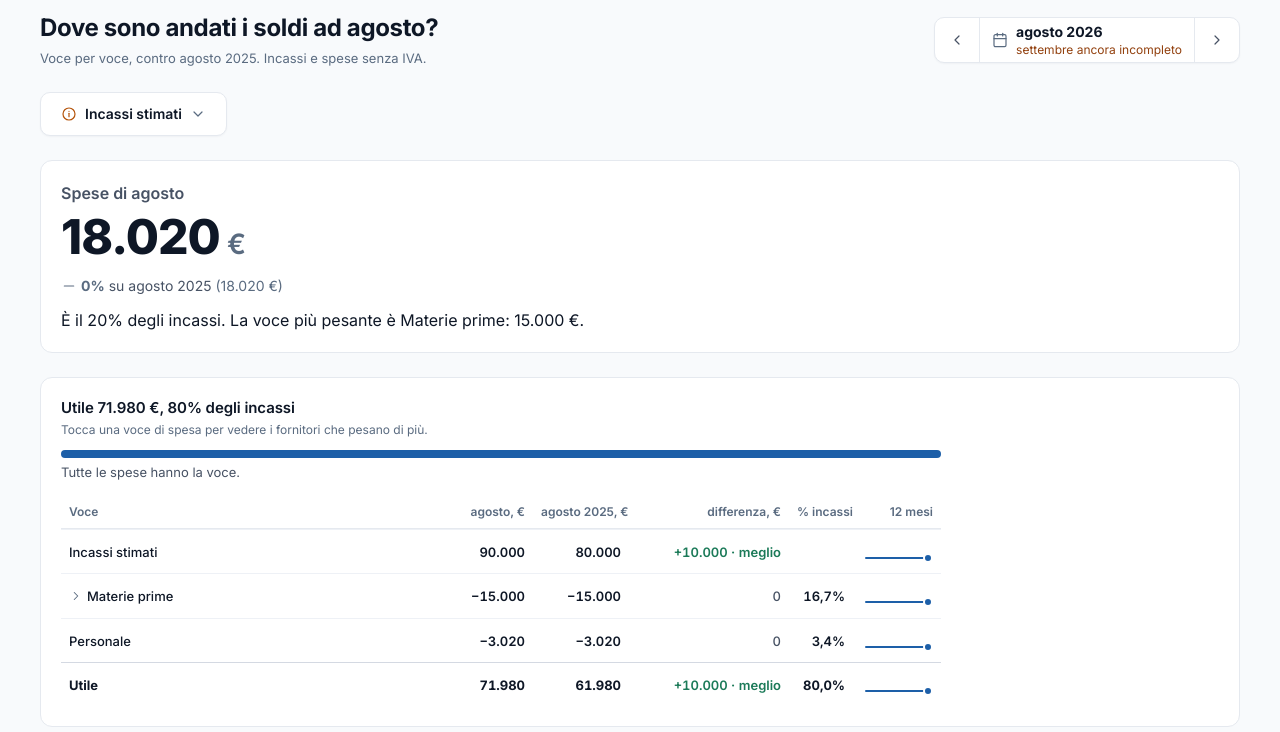
Scenario: Il Conto si apre sullo stesso mese de «Il mese» (CE2) › la freccia accanto all'avviso riporta al mese chiuso, e l'avviso sparisce
The width and height of the screenshot is (1280, 732).
Expected: the message "settembre ancora incompleto" is shown, [1016,42,1182,58]
What coordinates should you click on to do the following:
click the button named "Mese dopo"
I would click on:
 (1217, 40)
Its box is [1195,18,1239,62].
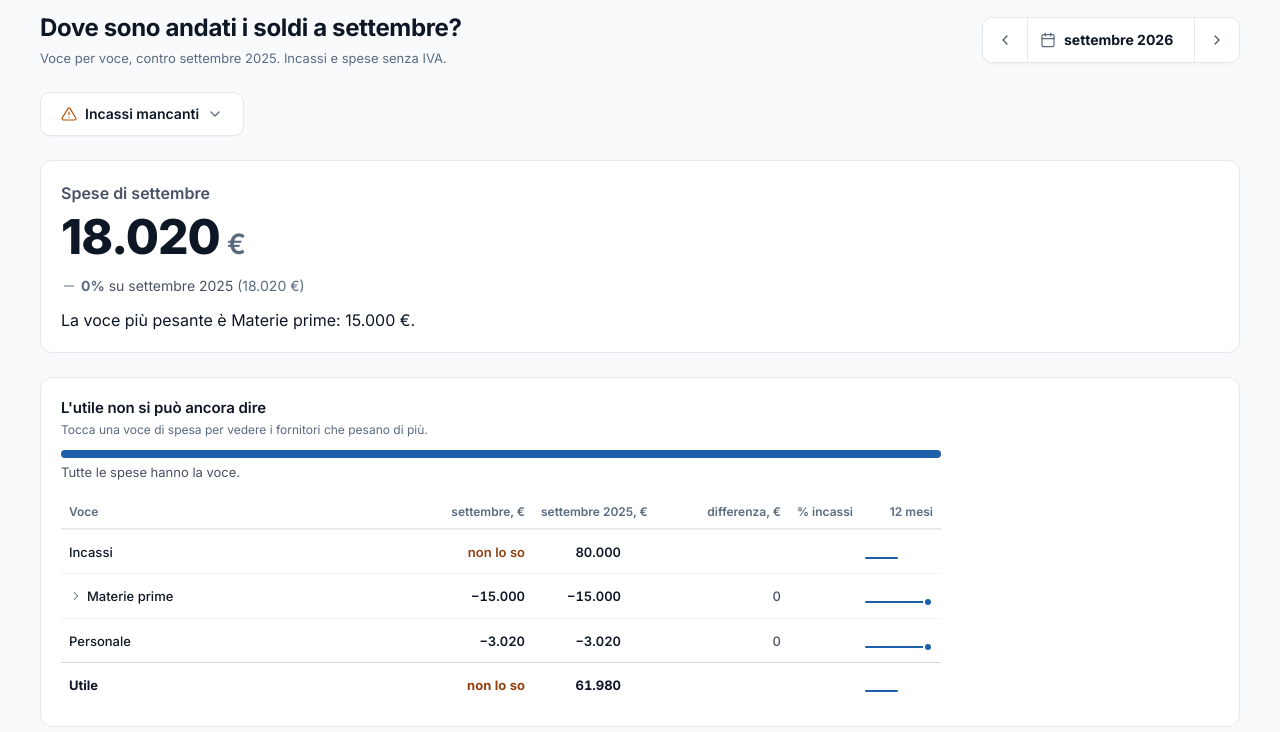
Expected: the message "settembre ancora incompleto" is gone
